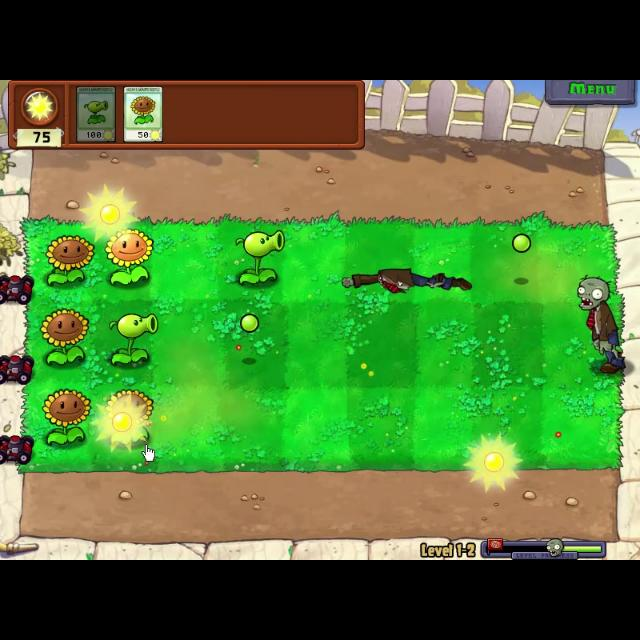Garden: (19, 214, 626, 478)
Menu Button: (542, 80, 638, 106)
Mower: (0, 428, 38, 466), (0, 270, 38, 306), (0, 352, 34, 384)
Peashooter: (74, 83, 118, 145)
Peashooter Seed: (227, 227, 291, 293), (104, 308, 158, 369)
Seed Panel: (5, 80, 367, 152)
Sun: (465, 429, 521, 495), (82, 186, 138, 242)
Sunflower: (122, 82, 164, 146)
Sunflower Seed: (34, 302, 92, 371), (100, 385, 156, 443), (104, 228, 156, 288), (39, 389, 91, 448), (40, 236, 96, 288)
Zombie: (574, 273, 632, 377)
